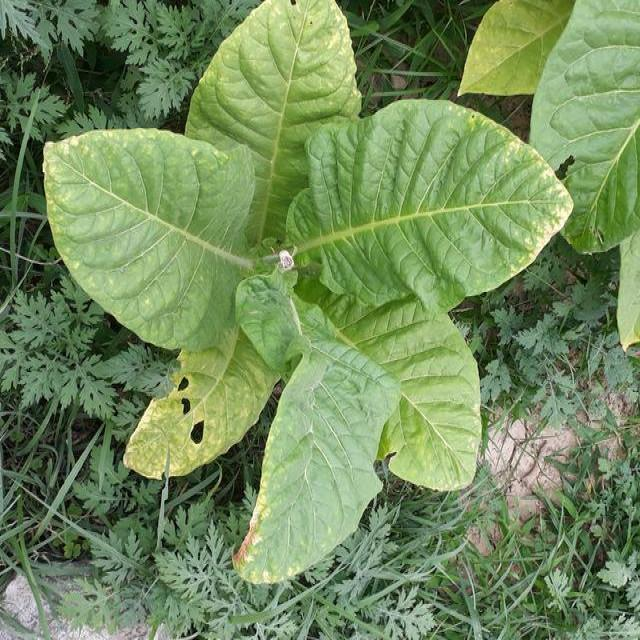crop: (44, 0, 571, 583)
